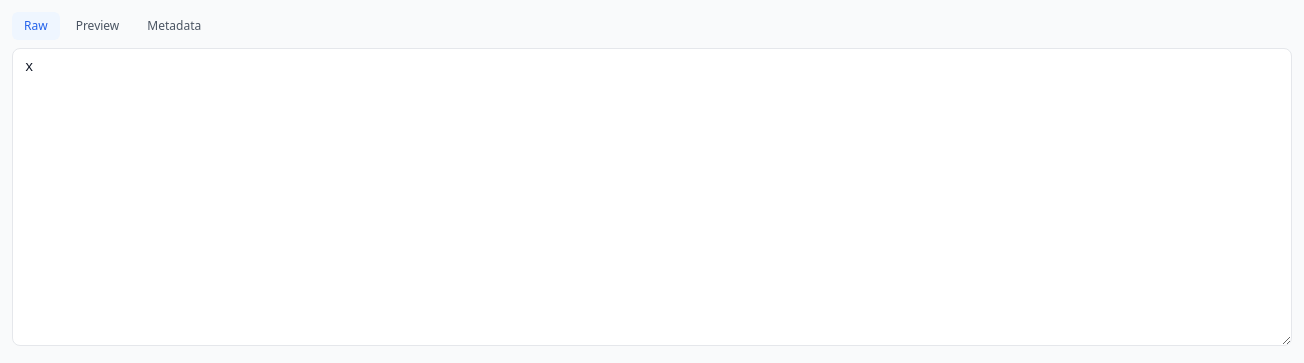
Scenario: MarkdownRawPreview › renders the Metadata tab and shows slot content when active
Click the button "Metadata" at (174, 26), box [135,12,213,40]
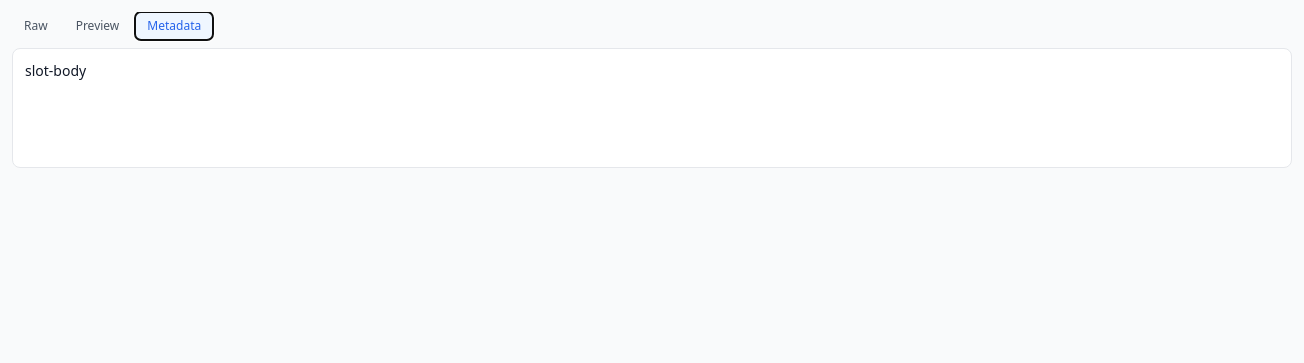
Now the element with test id "markdown-metadata" is shown, box [12,48,1292,168]
Now the text with test id "md-slot" reads "slot-body", box [25,61,86,80]
